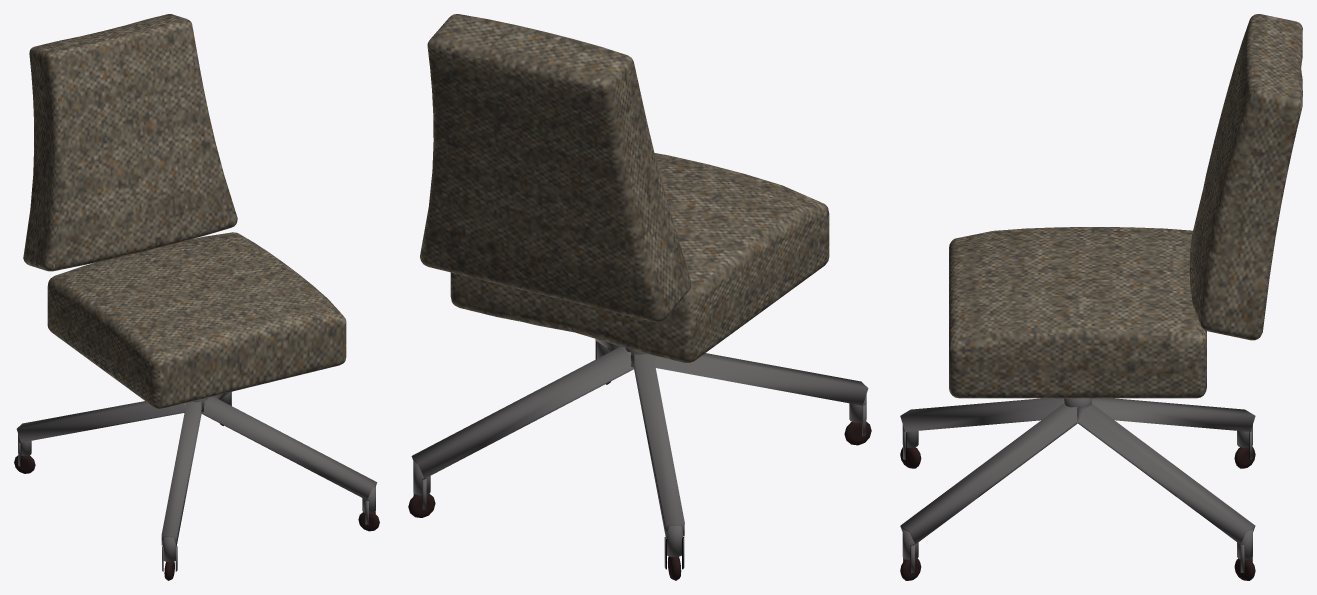
File: Office Chair.glb
The picture shows the model from 3 angles, left to right: view 1: azimuth 30°, elevation 25°; view 2: azimuth 150°, elevation 25°; view 3: azimuth 270°, elevation 25°; orthographic projection. The views are drawn at different scales.
Parts seen in each view (by area): view 1: Cube.003, Cube.002; view 2: Cube.003, Cube.002; view 3: Cube.003, Cube.002.
Boxes of the visible parts, x1,y1,x2,y2 form: Cube.003: (23,14,346,408); Cube.002: (14,391,379,580); Cube.003: (420,14,829,362); Cube.002: (408,339,871,580); Cube.003: (949,14,1302,398); Cube.002: (900,398,1255,580).
Bounding box in the file's own units: 0.6794 × 1.23 × 0.9517.
Materials: 3 (3 with a texture image).
